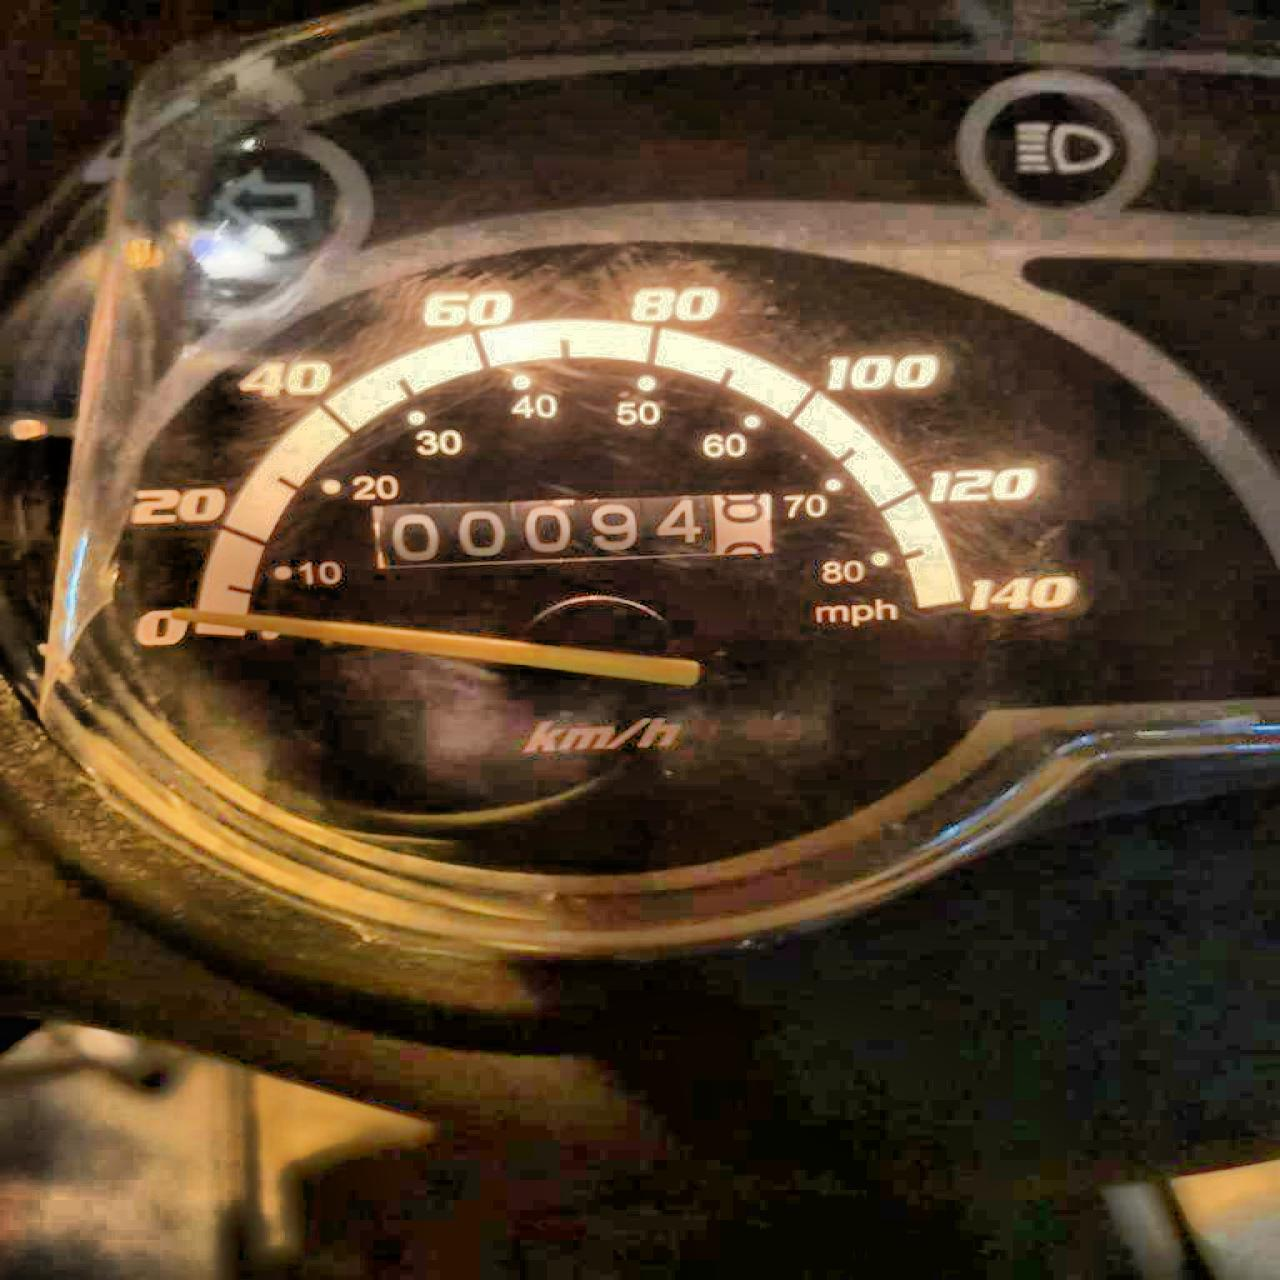0: (388, 512, 440, 561), (455, 509, 505, 557), (523, 504, 570, 551)
4: (653, 497, 702, 544)
8: (719, 486, 762, 523)
9: (588, 501, 636, 550)
odometer: (366, 490, 777, 570)
